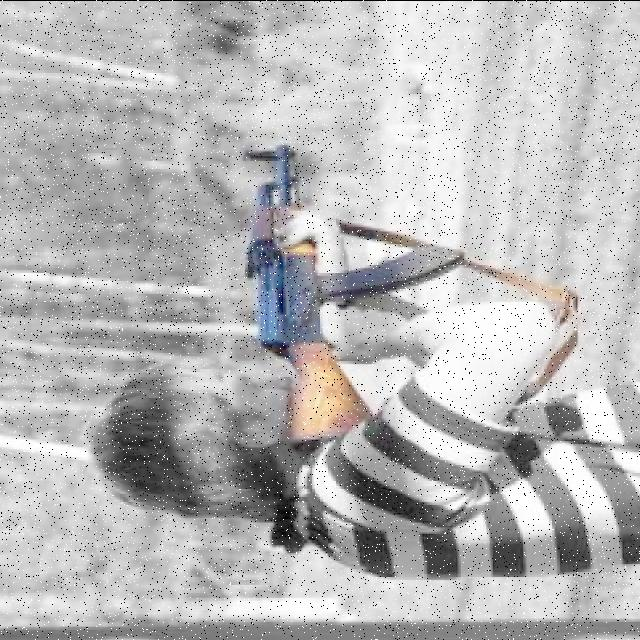Rifle: (240, 140, 464, 438)
